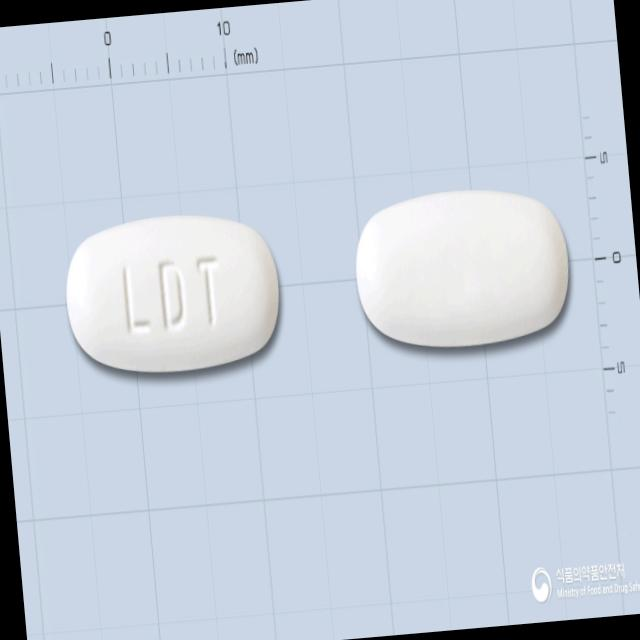Sebivo Tab: (59, 205, 287, 382)
